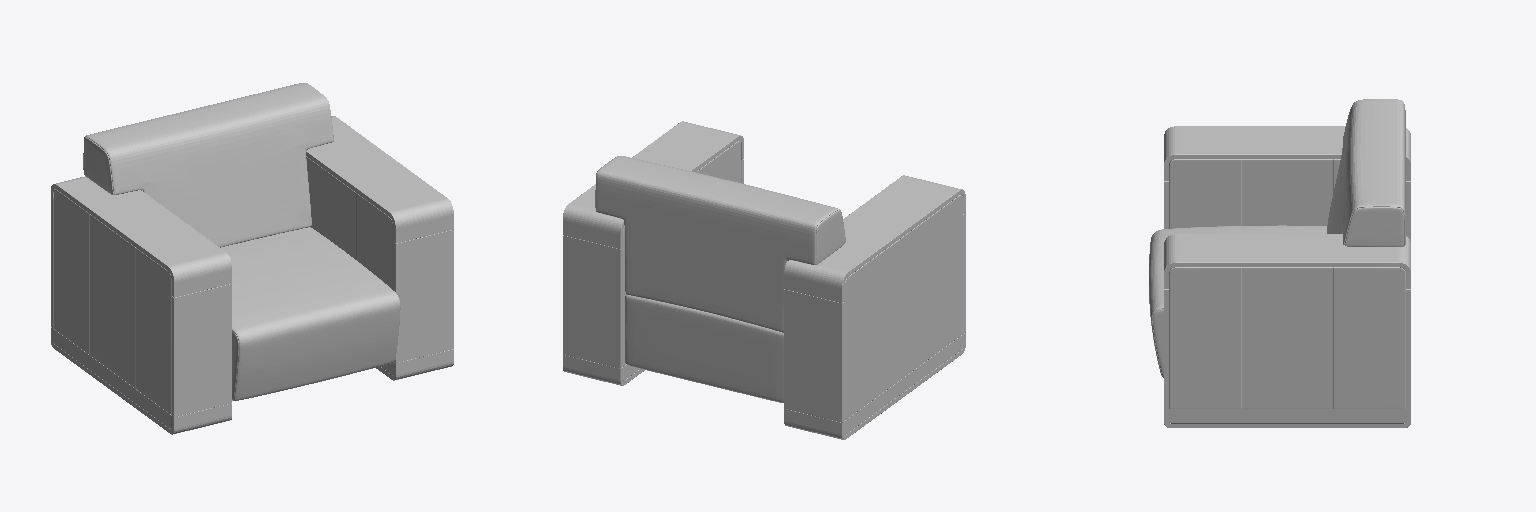
The model's file is sofa1posto.obj.
The picture shows the model from 3 angles: view 1: azimuth 30°, elevation 25°; view 2: azimuth 150°, elevation 25°; view 3: azimuth 270°, elevation 25°; orthographic projection.
Parts seen in each view (by area): view 1: archmodels92_040_001, archmodels92_040_002, archmodels92_040_003; view 2: archmodels92_040_001, archmodels92_040_002, archmodels92_040_003; view 3: archmodels92_040_001, archmodels92_040_002, archmodels92_040_003.
Part boxes in pixels (x1,y1,x2,y2): archmodels92_040_001: (53, 83, 400, 414); archmodels92_040_002: (51, 116, 453, 416); archmodels92_040_003: (51, 327, 453, 434); archmodels92_040_001: (595, 141, 962, 419); archmodels92_040_002: (563, 121, 965, 422); archmodels92_040_003: (563, 333, 965, 439); archmodels92_040_001: (1149, 99, 1405, 408); archmodels92_040_002: (1164, 126, 1410, 408); archmodels92_040_003: (1164, 409, 1410, 427).
Size of the model in its own units: 47.24 by 33.64 by 38.43.